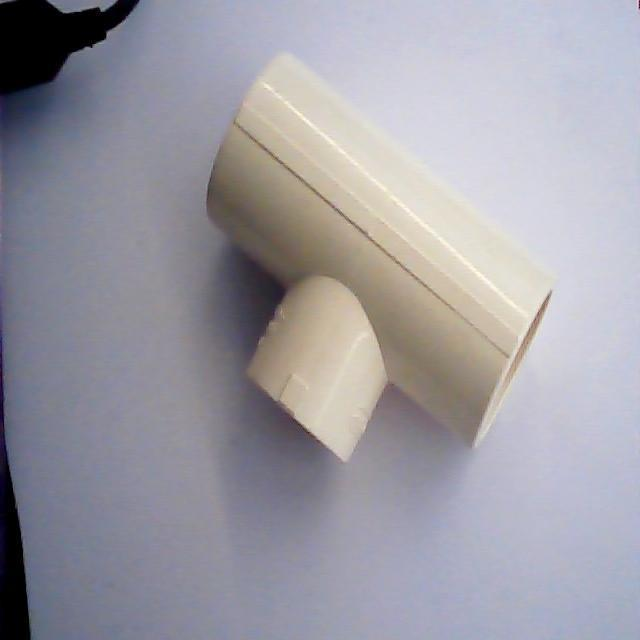T Joint: (205, 52, 557, 464)
